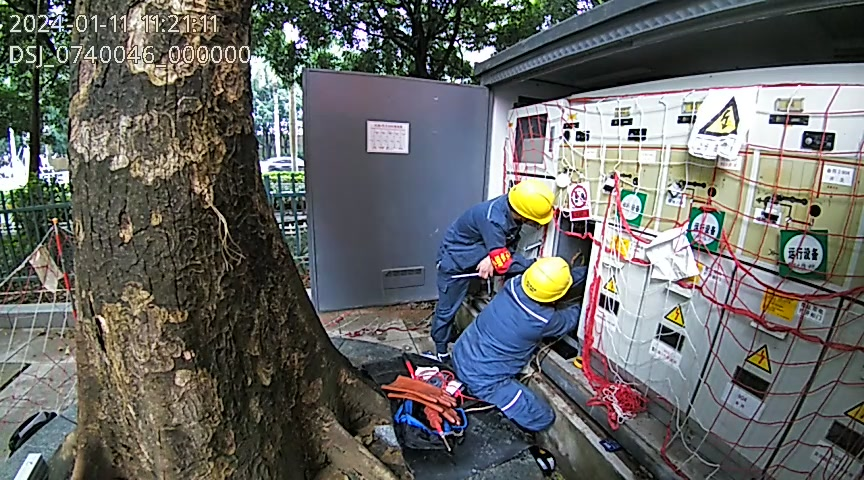halt: (525, 259, 575, 311), (510, 183, 556, 231)
